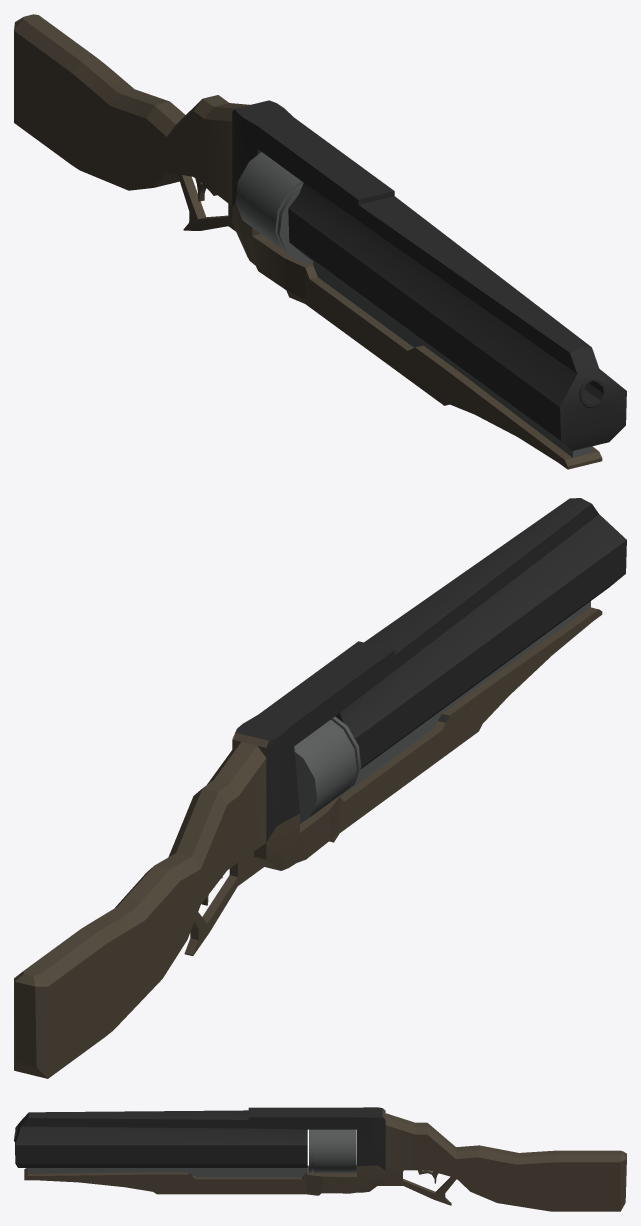
The model's file is Shotgun.fbx.
3 views of the same model, one above another, from view 1: azimuth 30°, elevation 25°; view 2: azimuth 150°, elevation 25°; view 3: azimuth 270°, elevation 25° (orthographic). The views are drawn at different scales.
Parts seen in each view (by area): view 1: Plane; view 2: Plane; view 3: Plane.
Boxes of the visible parts, box(x1,y1,x2,y2) form: Plane: box(14, 14, 626, 469); Plane: box(14, 498, 626, 1078); Plane: box(14, 1107, 626, 1211).
Size of the model in its own units: 37.19 by 76.71 by 450.
